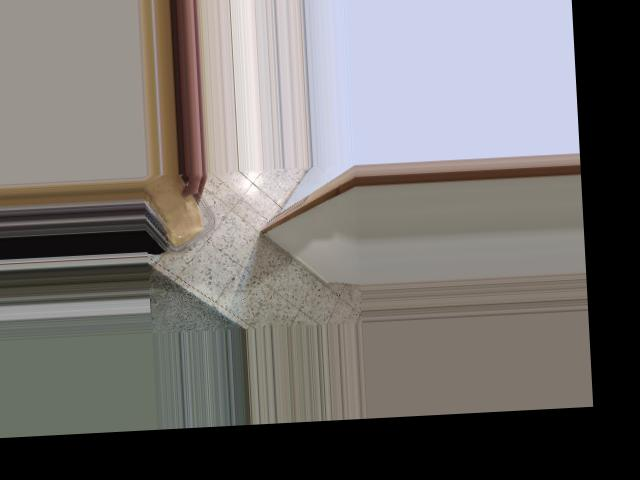cheese: (141, 171, 215, 252)
